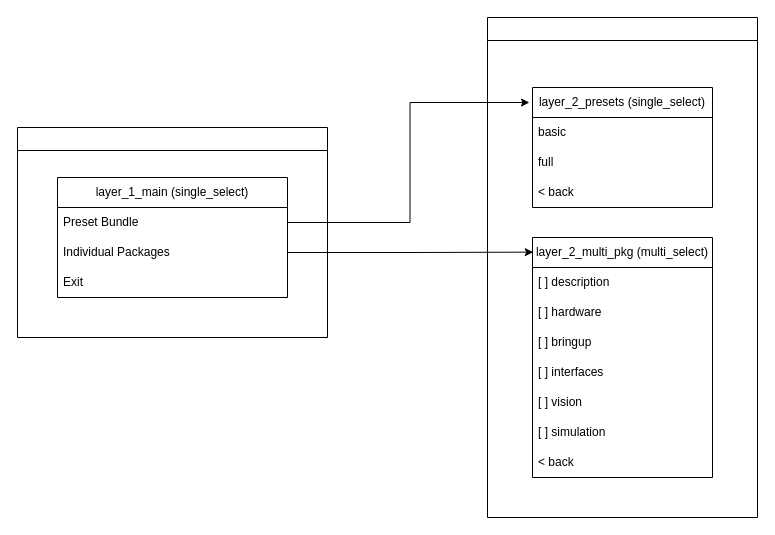
This 775x535 diagram has some shape labels left out. Here are the shapes that lost their labels. From the top down, the centre of each, then its label:
At pixel 172 232: "layer_1".
At pixel 622 267: "layer_2".
